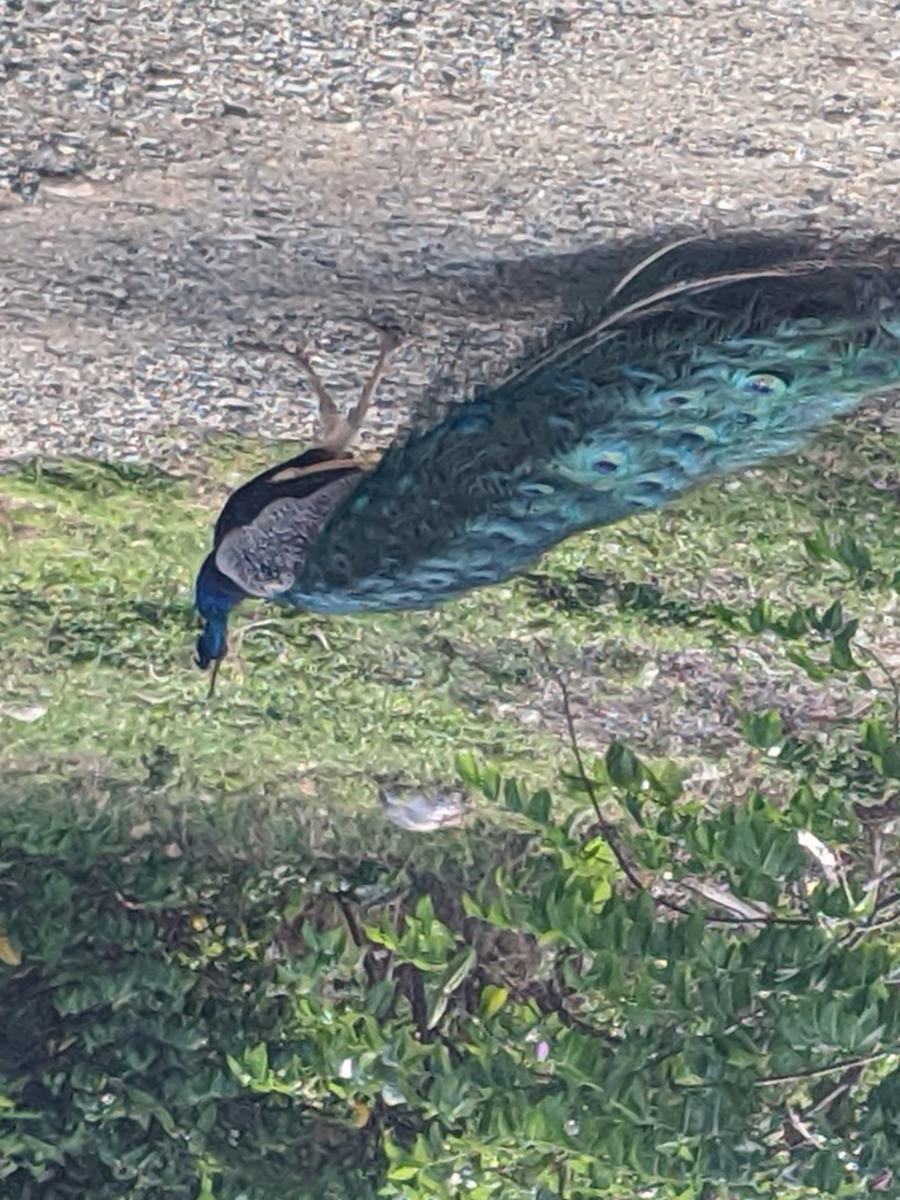peacock: (147, 179, 900, 717)
